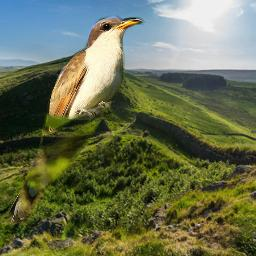Cuckoo: (3, 12, 146, 229)
